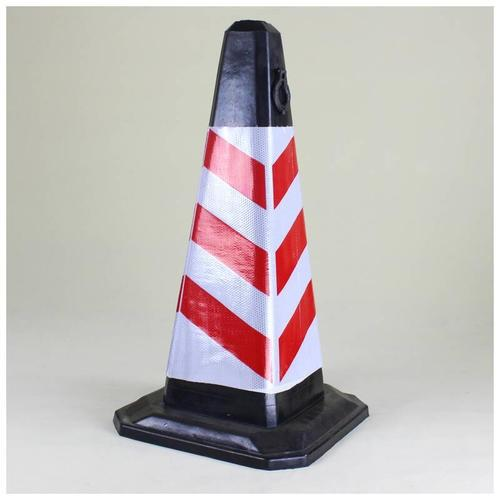cone_barrel: (138, 18, 351, 448)
